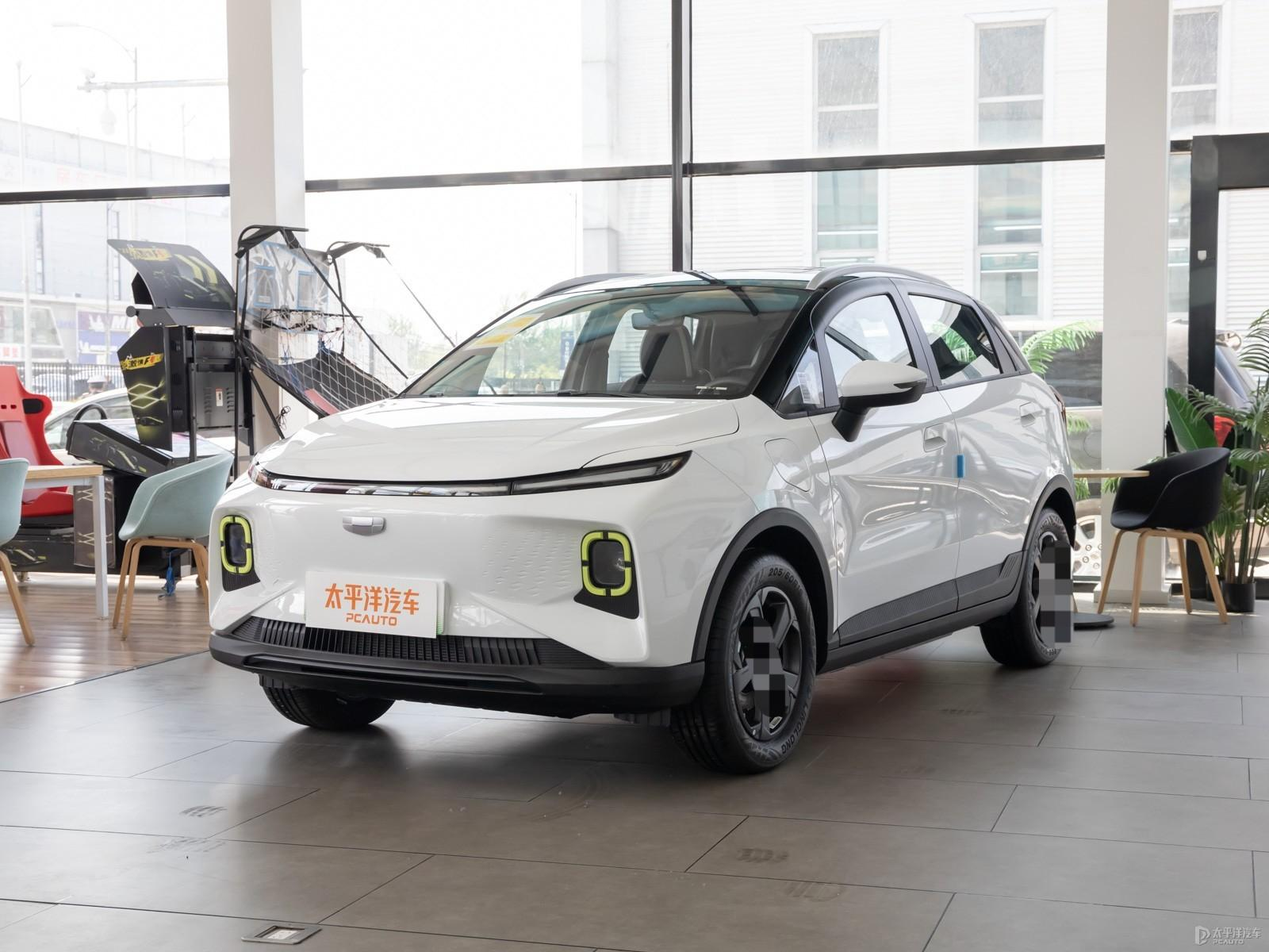GEOMETRY: (342, 516, 385, 536)
